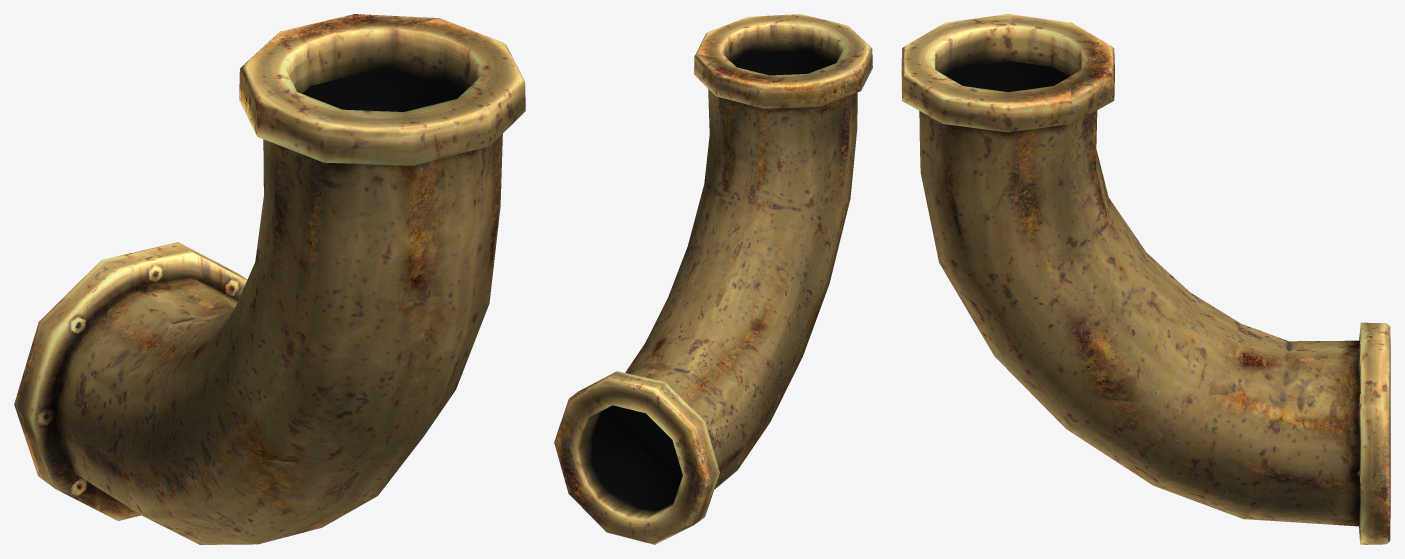
Rendered from Pipe90.fbx.
3 views of the same model, side by side, from view 1: azimuth 30°, elevation 25°; view 2: azimuth 150°, elevation 25°; view 3: azimuth 270°, elevation 25° (orthographic). The views are drawn at different scales.
Parts seen in each view (by area): view 1: None; view 2: None; view 3: None.
Part boxes in pixels (x1=…): None: x1=14, y1=14, x2=525, y2=544; None: x1=554, y1=14, x2=872, y2=544; None: x1=901, y1=14, x2=1390, y2=544.
Size of the model in its own units: 141 by 328 by 309.
